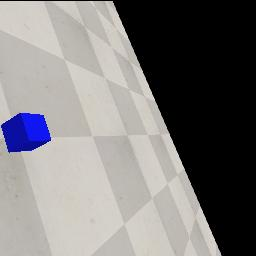box: (1, 113, 51, 153)
